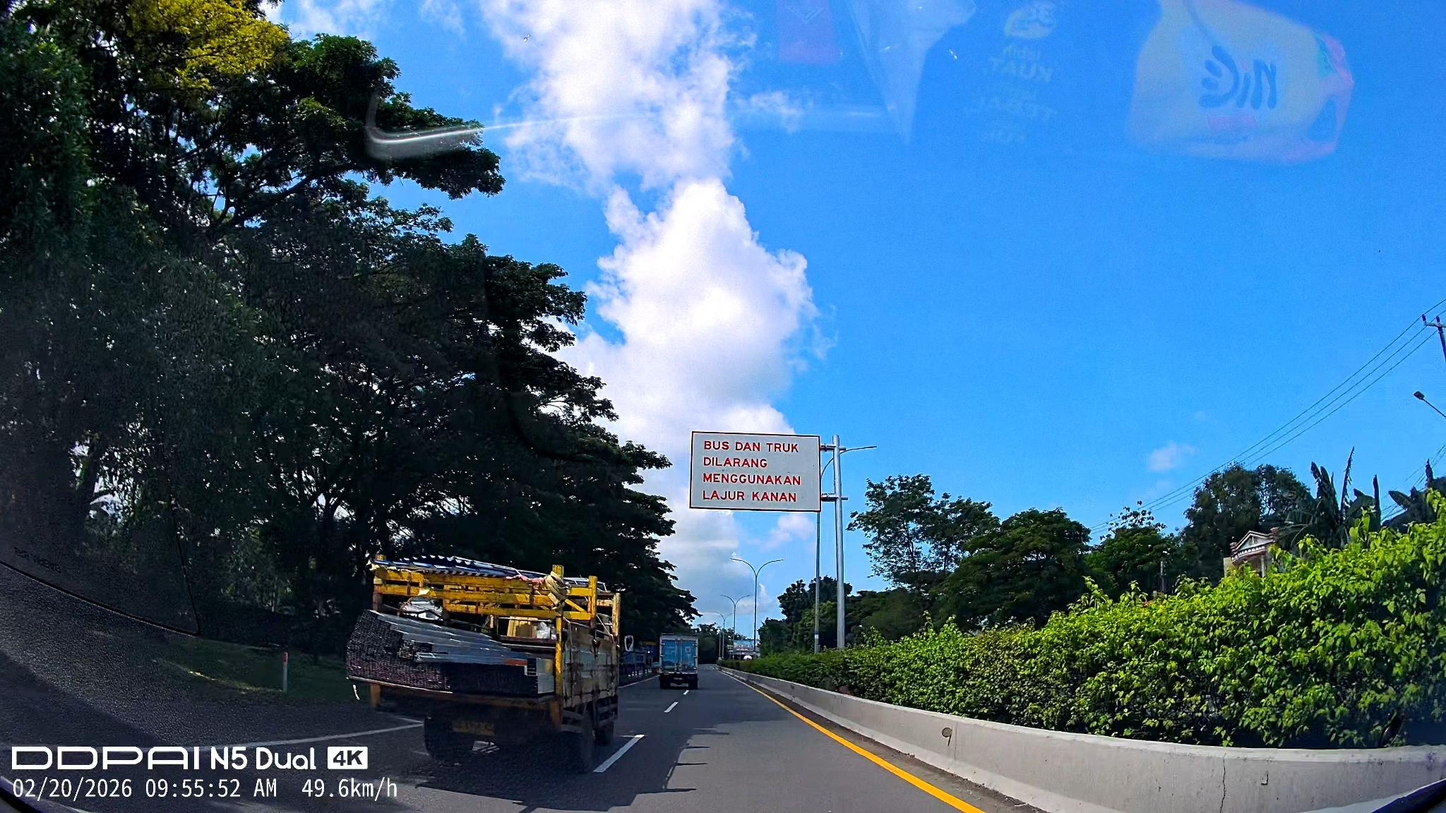rambu_teks: (689, 431, 822, 513)
